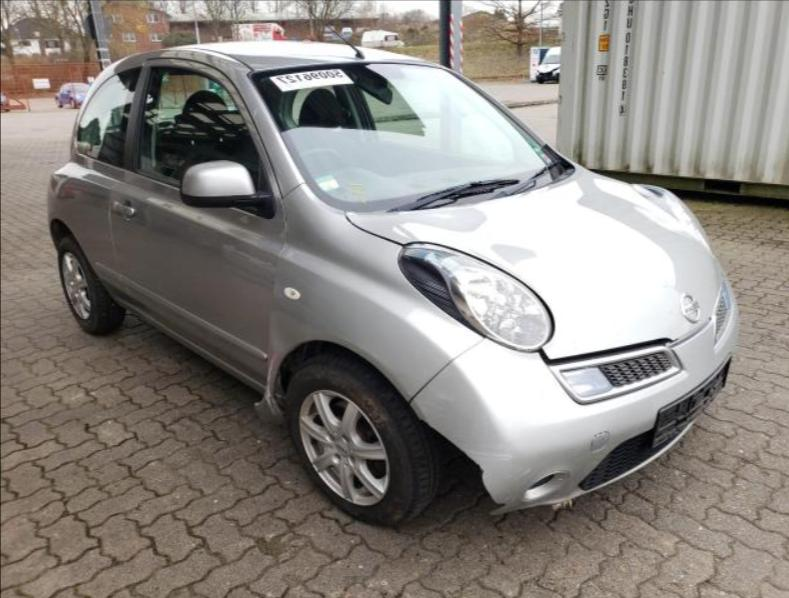Broken part: (406, 295, 736, 518), (253, 333, 285, 424)
Missing part: (652, 359, 728, 447)
Scratch: (466, 447, 517, 461), (512, 462, 536, 483), (495, 494, 519, 512), (557, 476, 565, 484)
